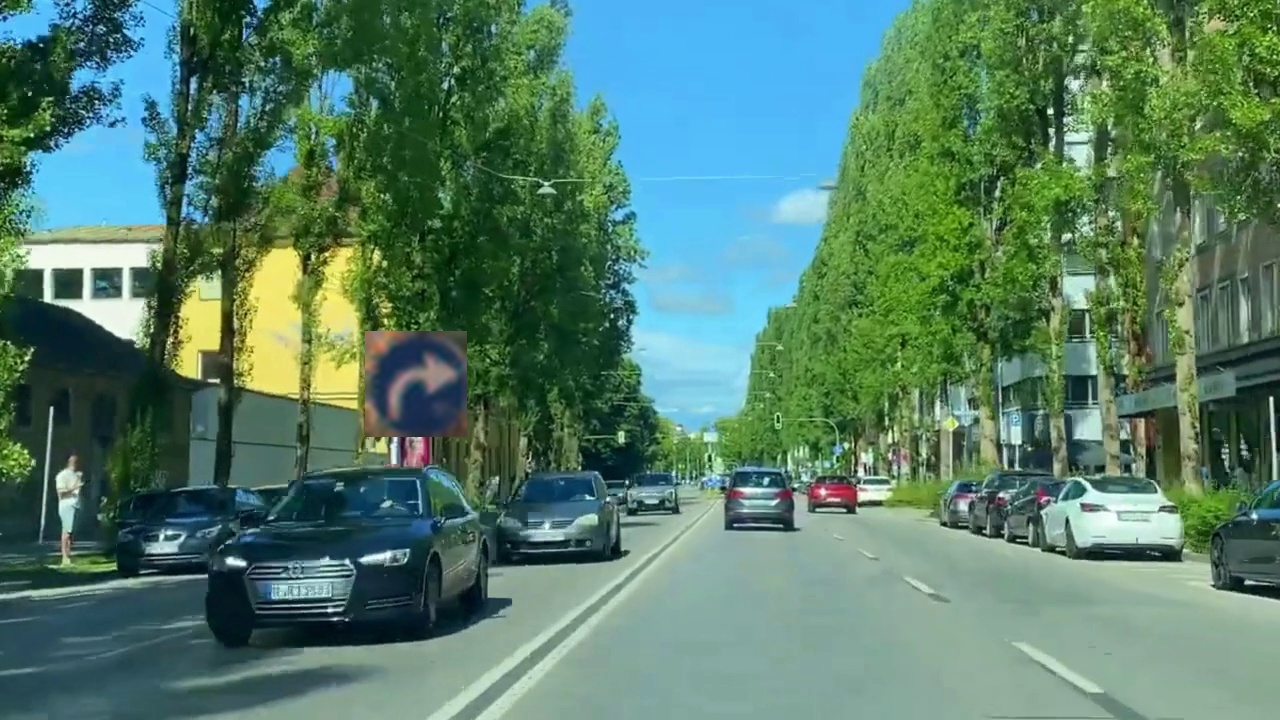Turn right: (365, 331, 467, 437)
